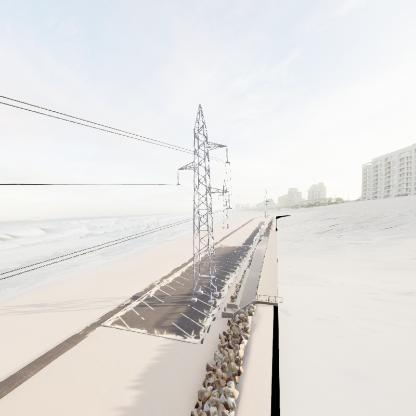tower: (175, 101, 232, 306)
